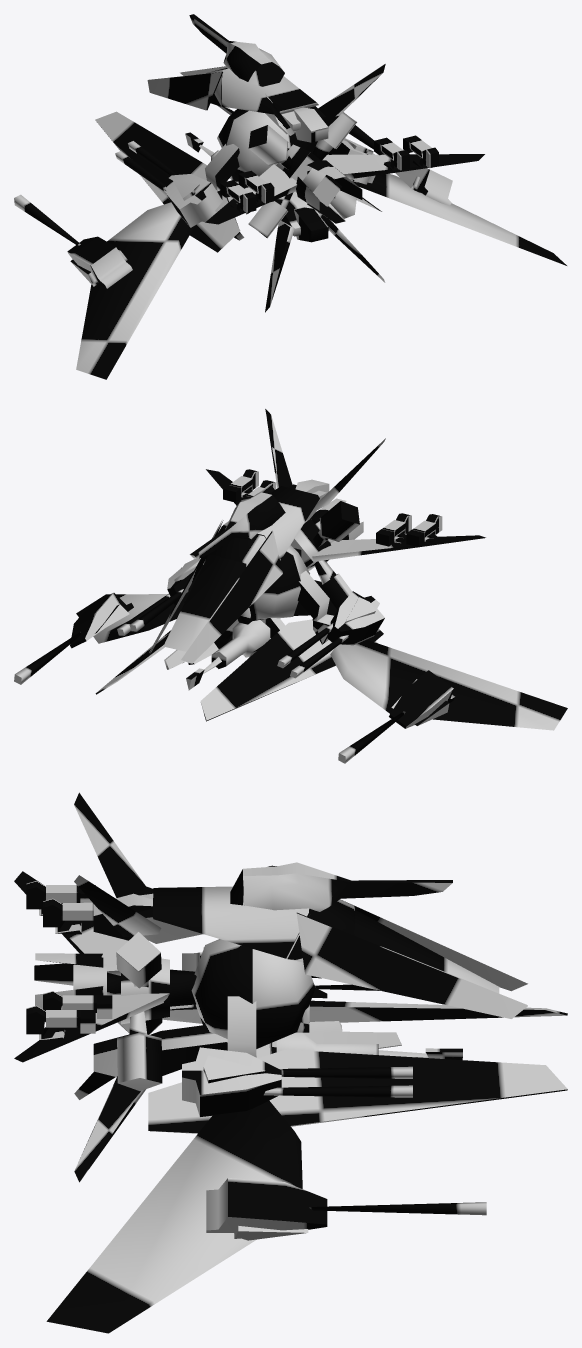
File: pet_11.obj
The picture shows the model from 3 angles, top to bottom: view 1: azimuth 30°, elevation 25°; view 2: azimuth 150°, elevation 25°; view 3: azimuth 270°, elevation 25°; orthographic projection. The views are drawn at different scales.
Parts seen in each view (by area): view 1: main; view 2: main; view 3: main.
Part boxes in pixels (x1,y1,x2,y2): main: (14, 14, 566, 379); main: (14, 409, 567, 763); main: (14, 792, 567, 1333).
Bounding box in the file's own units: 111 × 53.37 × 79.44.
1 material, 1 textured.
